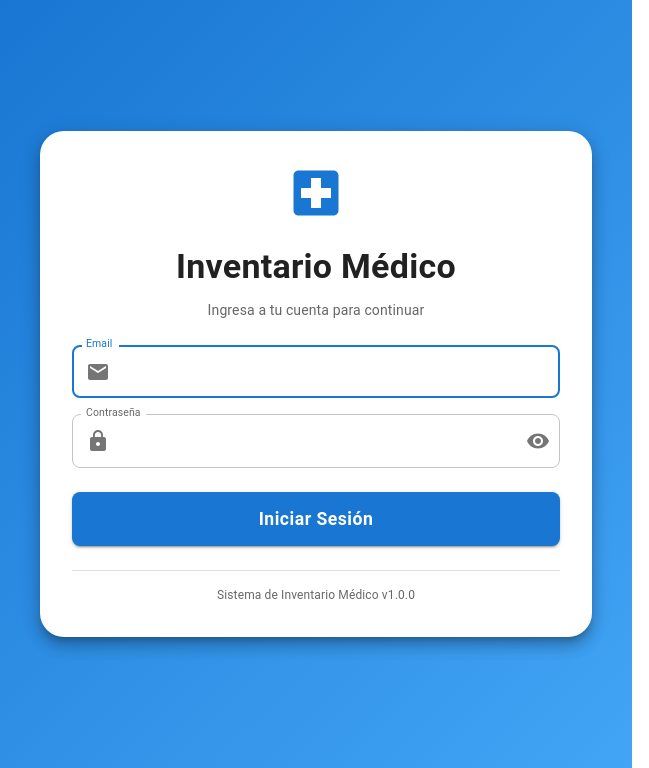
Test case: LoginPage Integration Test › should display error message for incorrect credentials (401)
The width and height of the screenshot is (649, 768).
In the field labelled "Email": [339, 372] box [118,345,560,398], type "wrong@example.com"
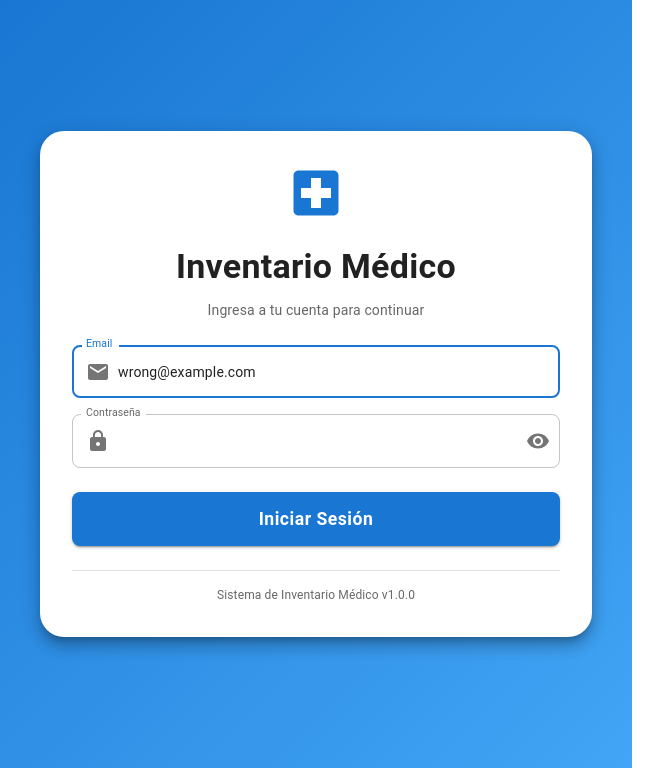
In the password field labelled "Contraseña": [314, 441] box [118,414,510,468], type "wrongpassword"
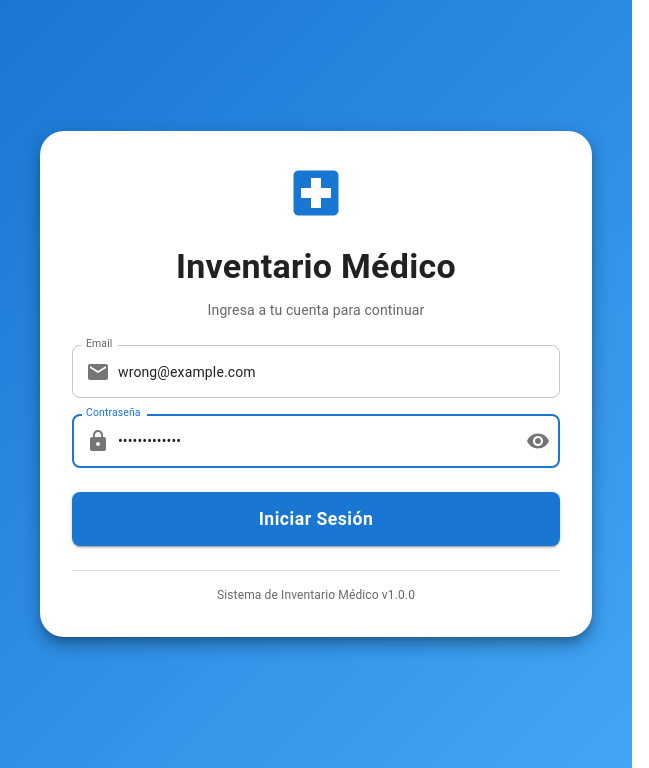
Click the button "Iniciar Sesión": [316, 519] box [72,492,560,546]
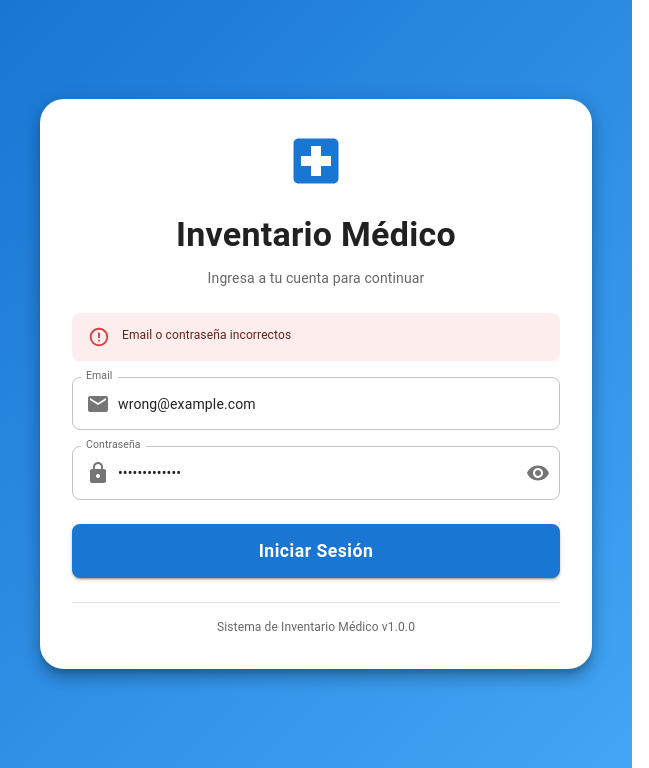
Expected: the text "Email o contraseña incorrectos" is shown, [122,328,291,342]
